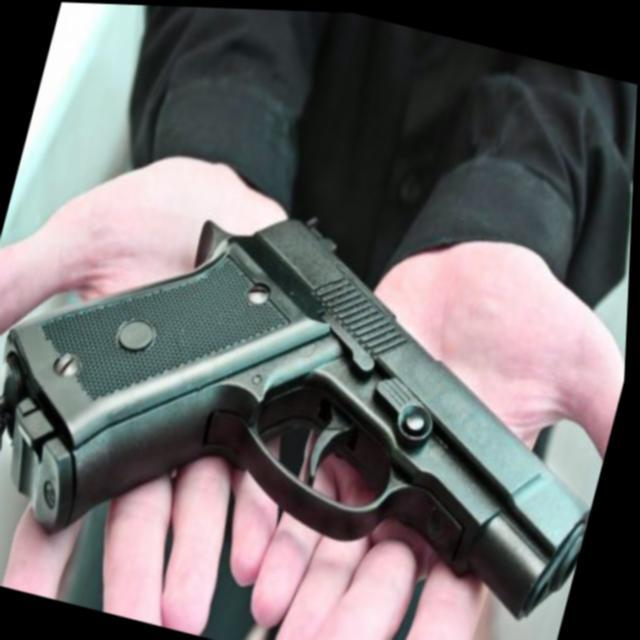weapon: (0, 140, 635, 640)
